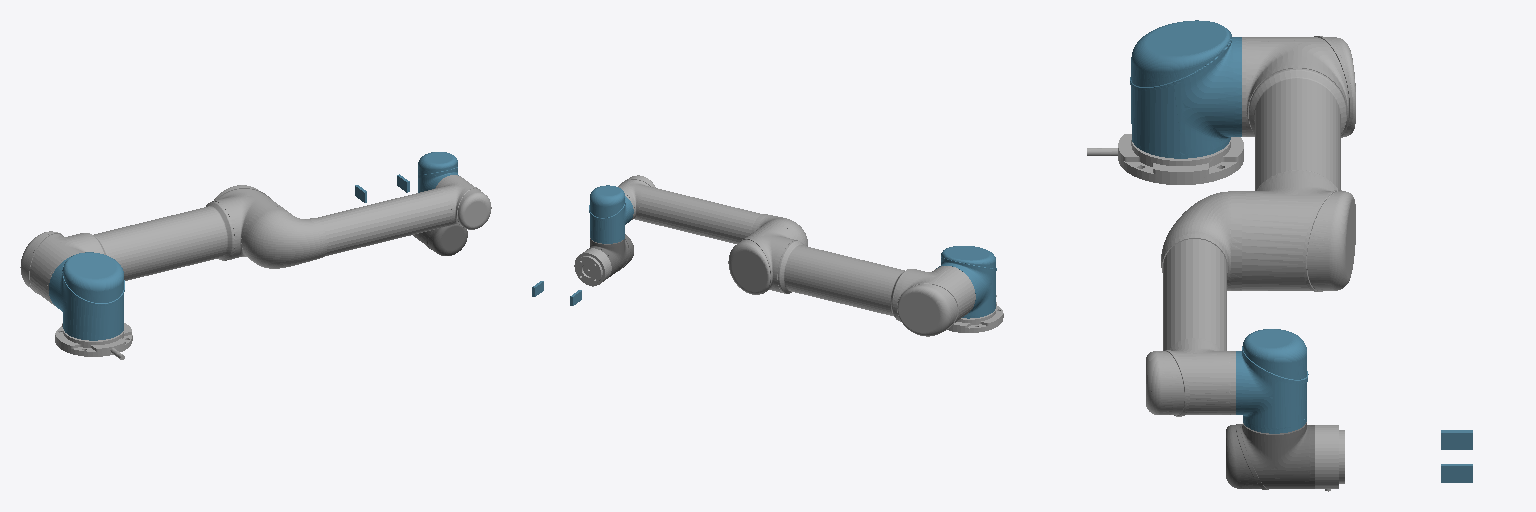
URDF robot description (ur5_robotiq_85):
<?xml version="1.0" ?>
<!-- =================================================================================== -->
<!-- |    This document was autogenerated by xacro from sisbot.xacro                   | -->
<!-- |    EDITING THIS FILE BY HAND IS NOT RECOMMENDED                                 | -->
<!-- =================================================================================== -->
<robot name="ur5_robotiq_85" xmlns:xacro="http://ros.org/wiki/xacro">
  <!--################################################
  ########              arm                    #######
  ####################################################-->

  <link name="base_link">
    <visual>
      <geometry>
        <mesh filename="../meshes/ur5/visual/base.obj"/>
      </geometry>
      <material name="LightGrey">
        <color rgba="0.7 0.7 0.7 1.0"/>
      </material>
    </visual>
    <collision>
      <geometry>
        <mesh filename="../meshes/ur5/collision/base.stl"/>
      </geometry>
    </collision>
    <inertial>
      <mass value="4.0"/>
      <origin rpy="0 0 0" xyz="0.0 0.0 0.0"/>
      <inertia ixx="0.00443333156" ixy="0.0" ixz="0.0" iyy="0.00443333156" iyz="0.0" izz="0.0072"/>
    </inertial>
  </link>

  <joint name="shoulder_pan_joint" type="revolute">
    <parent link="base_link"/>
    <child link="shoulder_link"/>
    <origin rpy="0.0 0.0 0.0" xyz="0.0 0.0 0.089159"/>
    <axis xyz="0 0 1"/>
    <limit effort="150.0" lower="-3.14159265359" upper="3.14159265359" velocity="3.15"/>
    <dynamics damping="0.0" friction="0.0"/>
  </joint>
  <link name="shoulder_link">
    <visual>
      <geometry>
        <mesh filename="../meshes/ur5/visual/shoulder.obj"/>
      </geometry>
      <material name="UR-Blue">
        <color rgba="0.376 0.576 0.674 1.0"/>
      </material>
    </visual>
    <collision>
      <geometry>
        <mesh filename="../meshes/ur5/collision/shoulder.stl"/>
      </geometry>
    </collision>
    <inertial>
      <mass value="3.7"/>
      <origin rpy="0 0 0" xyz="0.0 0.0 0.0"/>
      <inertia ixx="0.010267495893" ixy="0.0" ixz="0.0" iyy="0.010267495893" iyz="0.0" izz="0.00666"/>
    </inertial>
  </link>
  <joint name="shoulder_lift_joint" type="revolute">
    <parent link="shoulder_link"/>
    <child link="upper_arm_link"/>
    <origin rpy="0.0 1.57079632679 0.0" xyz="0.0 0.13585 0.0"/>
    <axis xyz="0 1 0"/>
    <limit effort="150.0" lower="-3.14159265359" upper="3.14159265359" velocity="3.15"/>
    <dynamics damping="0.0" friction="0.0"/>
  </joint>
  <link name="upper_arm_link">
    <visual>
      <geometry>
        <mesh filename="../meshes/ur5/visual/upperarm.obj"/>
      </geometry>
      <material name="LightGrey">
        <color rgba="0.7 0.7 0.7 1.0"/>
      </material>
    </visual>
    <collision>
      <geometry>
        <mesh filename="../meshes/ur5/collision/upperarm.stl"/>
      </geometry>
    </collision>
    <inertial>
      <mass value="8.393"/>
      <origin rpy="0 0 0" xyz="0.0 0.0 0.28"/>
      <inertia ixx="0.22689067591" ixy="0.0" ixz="0.0" iyy="0.22689067591" iyz="0.0" izz="0.0151074"/>
    </inertial>
  </link>
  <joint name="elbow_joint" type="revolute">
    <parent link="upper_arm_link"/>
    <child link="forearm_link"/>
    <origin rpy="0.0 0.0 0.0" xyz="0.0 -0.1197 0.425"/>
    <axis xyz="0 1 0"/>
    <limit effort="150.0" lower="-3.14159265359" upper="3.14159265359" velocity="3.15"/>
    <dynamics damping="0.0" friction="0.0"/>
  </joint>
  <link name="forearm_link">
    <visual>
      <geometry>
        <mesh filename="../meshes/ur5/visual/forearm.obj"/>
      </geometry>
      <material name="LightGrey">
        <color rgba="0.7 0.7 0.7 1.0"/>
      </material>
    </visual>
    <collision>
      <geometry>
        <mesh filename="../meshes/ur5/collision/forearm.stl"/>
      </geometry>
    </collision>
    <inertial>
      <mass value="2.275"/>
      <origin rpy="0 0 0" xyz="0.0 0.0 0.25"/>
      <inertia ixx="0.049443313556" ixy="0.0" ixz="0.0" iyy="0.049443313556" iyz="0.0" izz="0.004095"/>
    </inertial>
  </link>
  <joint name="wrist_1_joint" type="revolute">
    <parent link="forearm_link"/>
    <child link="wrist_1_link"/>
    <origin rpy="0.0 1.57079632679 0.0" xyz="0.0 0.0 0.39225"/>
    <axis xyz="0 1 0"/>
    <limit effort="28.0" lower="-3.14159265359" upper="3.14159265359" velocity="3.2"/>
    <dynamics damping="0.0" friction="0.0"/>
  </joint>
  <link name="wrist_1_link">
    <visual>
      <geometry>
        <mesh filename="../meshes/ur5/visual/wrist1.obj"/>
      </geometry>
      <material name="UR-Blue">
        <color rgba="0.376 0.576 0.674 1.0"/>
      </material>
    </visual>
    <collision>
      <geometry>
        <mesh filename="../meshes/ur5/collision/wrist1.stl"/>
      </geometry>
    </collision>
    <inertial>
      <mass value="1.219"/>
      <origin rpy="0 0 0" xyz="0.0 0.0 0.0"/>
      <inertia ixx="0.111172755531" ixy="0.0" ixz="0.0" iyy="0.111172755531" iyz="0.0" izz="0.21942"/>
    </inertial>
  </link>
  <joint name="wrist_2_joint" type="revolute">
    <parent link="wrist_1_link"/>
    <child link="wrist_2_link"/>
    <origin rpy="0.0 0.0 0.0" xyz="0.0 0.093 0.0"/>
    <axis xyz="0 0 1"/>
    <limit effort="28.0" lower="-3.14159265359" upper="3.14159265359" velocity="3.2"/>
    <dynamics damping="0.0" friction="0.0"/>
  </joint>
  <link name="wrist_2_link">
    <visual>
      <geometry>
        <mesh filename="../meshes/ur5/visual/wrist2.obj"/>
      </geometry>
      <material name="DarkGray">
        <color rgba="0.5 0.5 0.5 1.0"/>
      </material>
    </visual>
    <collision>
      <geometry>
        <mesh filename="../meshes/ur5/collision/wrist2.stl"/>
      </geometry>
    </collision>
    <inertial>
      <mass value="1.219"/>
      <origin rpy="0 0 0" xyz="0.0 0.0 0.0"/>
      <inertia ixx="0.111172755531" ixy="0.0" ixz="0.0" iyy="0.111172755531" iyz="0.0" izz="0.21942"/>
    </inertial>
  </link>
  <joint name="wrist_3_joint" type="revolute">
    <parent link="wrist_2_link"/>
    <child link="wrist_3_link"/>
    <origin rpy="0.0 0.0 0.0" xyz="0.0 0.0 0.09465"/>
    <axis xyz="0 1 0"/>
    <limit effort="28.0" lower="-3.14159265359" upper="3.14159265359" velocity="3.2"/>
    <dynamics damping="0.0" friction="0.0"/>
  </joint>
  <link name="wrist_3_link">
    <visual>
      <geometry>
        <mesh filename="../meshes/ur5/visual/wrist3.obj"/>
      </geometry>
      <material name="LightGrey">
        <color rgba="0.7 0.7 0.7 1.0"/>
      </material>
    </visual>
    <collision>
      <geometry>
        <mesh filename="../meshes/ur5/collision/wrist3.stl"/>
      </geometry>
    </collision>
    <inertial>
      <mass value="0.1879"/>
      <origin rpy="0 0 0" xyz="0.0 0.0 0.0"/>
      <inertia ixx="0.0171364731454" ixy="0.0" ixz="0.0" iyy="0.0171364731454" iyz="0.0" izz="0.033822"/>
    </inertial>
  </link>
  <joint name="ee_fixed_joint" type="fixed">
    <parent link="wrist_3_link"/>
    <child link="ee_link"/>
    <origin rpy="0.0 0.0 1.57079632679" xyz="0.0 0.0823 0.0"/>
  </joint>
  <link name="ee_link">
    <collision>
      <geometry>
        <box size="0.01 0.01 0.01"/>
      </geometry>
      <origin rpy="0 0 0" xyz="-0.01 0 0"/>
    </collision>
  </link>

  <!--################################################
  ########              gripper                  #####
  ####################################################-->

  <link name="robotiq_arg2f_base_link">
    <inertial>
      <origin rpy="0 0 0" xyz="8.625E-08 -4.6583E-06 0.03145"/>
      <mass value="0.22652"/>
      <inertia ixx="0.00020005" ixy="-4.2442E-10" ixz="-2.9069E-10" iyy="0.00017832" iyz="-3.4402E-08" izz="0.00013478"/>
    </inertial>
    <visual>
      <origin rpy="0 0 0" xyz="0 0 0"/>
      <geometry>
        <mesh filename="../meshes/robotiq_85/visual/robotiq_arg2f_85_base_link.dae" scale="0.001 0.001 0.001"/>
      </geometry>
      <material name="LightGrey">
        <color rgba="0.7 0.7 0.7 1.0"/>
      </material>
    </visual>
    <collision>
      <origin rpy="0 0 0" xyz="0 0 0"/>
      <geometry>
        <mesh filename="../meshes/robotiq_85/collision/robotiq_arg2f_base_link.stl"/>
      </geometry>
    </collision>
  </link>
  <joint name="finger_joint" type="revolute">
    <origin rpy="0 0 3.14159265359" xyz="0 -0.0306011 0.054904"/>
    <parent link="robotiq_arg2f_base_link"/>
    <child link="left_outer_knuckle"/>
    <axis xyz="1 0 0"/>
    <limit effort="1000" lower="0" upper="0.8" velocity="2.0"/>
  </joint>
  <link name="left_outer_knuckle">
    <inertial>
        <origin xyz="-0.000200000000003065 0.0199435877845359 0.0292245259211331" rpy="0 0 0" />
        <mass value="0.00853198276973456" />
        <inertia ixx="2.89328108496468E-06" ixy="-1.57935047237397E-19" ixz="-1.93980378593255E-19" iyy="1.86719750325683E-06" iyz="-1.21858577871576E-06" izz="1.21905238907251E-06" />
        </inertial>
    <visual>
      <origin rpy="0 0 0" xyz="0 0 0"/>
      <geometry>
        <mesh filename="../meshes/robotiq_85/visual/robotiq_arg2f_85_outer_knuckle.dae" scale="0.001 0.001 0.001"/>
      </geometry>
      <material name="">
        <color rgba="1 1 0 1"/>
      </material>
    </visual>
    <collision>
      <origin rpy="0 0 0" xyz="0 0 0"/>
      <geometry>
        <mesh filename="../meshes/robotiq_85/collision/robotiq_arg2f_85_outer_knuckle.dae" scale="0.001 0.001 0.001"/>
      </geometry>
    </collision>
  </link>
  <joint name="left_outer_finger_joint" type="fixed">
    <origin rpy="0 0 0" xyz="0 0.0315 -0.0041"/>
    <parent link="left_outer_knuckle"/>
    <child link="left_outer_finger"/>
    <axis xyz="1 0 0"/>
  </joint>
  <link name="left_outer_finger">
    <inertial>
        <origin xyz="0.00030115855001899 0.0373907951953854 -0.0208027427000385" rpy="0 0 0" />
        <mass value="0.022614240507152" />
        <inertia ixx="1.52518312458174E-05" ixy="9.76583423954399E-10" ixz="-5.43838577022588E-10" iyy="6.17694243867776E-06" iyz="6.78636130740228E-06" izz="1.16494917907219E-05" />
        </inertial>
    <visual>
      <origin rpy="0 0 0" xyz="0 0 0"/>
      <geometry>
        <mesh filename="../meshes/robotiq_85/visual/robotiq_arg2f_85_outer_finger.dae" scale="0.001 0.001 0.001"/>
      </geometry>
      <material name="LightGrey">
        <color rgba="0 1 1 1.0"/>
      </material>
    </visual>
    <collision>
      <origin rpy="0 0 0" xyz="0 0 0"/>
      <geometry>
        <mesh filename="../meshes/robotiq_85/collision/robotiq_arg2f_85_outer_finger.dae" scale="0.001 0.001 0.001"/>
      </geometry>
    </collision>
  </link>
  <joint name="left_inner_finger_joint" type="revolute">
    <origin rpy="0 0 0" xyz="0 0.0061 0.0471"/>
    <parent link="left_outer_finger"/>
    <child link="left_inner_finger"/>
    <axis xyz="1 0 0"/>
    <limit effort="1000" lower="-0.8757" upper="0" velocity="2.0"/>
    <mimic joint="finger_joint" multiplier="-1" offset="0"/>
  </joint>
  <link name="left_inner_finger">
    <inertial>
        <origin xyz="0.000299999999999317 0.0160078233491243 -0.0136945669206257" rpy="0 0 0" />
        <mass value="0.0104003125914103" />
        <inertia ixx="2.71909453810972E-06" ixy="1.35402465472579E-21" ixz="-7.1817349065269E-22" iyy="7.69100314106116E-07" iyz="6.74715432769696E-07" izz="2.30315190420171E-06" />
        </inertial>
    <visual>
      <origin rpy="0 0 0" xyz="0 0 0"/>
      <geometry>
        <mesh filename="../meshes/robotiq_85/visual/robotiq_arg2f_85_inner_finger.dae" scale="0.001 0.001 0.001"/>
      </geometry>
      <material name="LightGrey">
        <color rgba="1 0 1 1.0"/>
      </material>
    </visual>
    <collision>
      <origin rpy="0 0 0" xyz="0 0 0"/>
      <geometry>
        <mesh filename="../meshes/robotiq_85/collision/robotiq_arg2f_85_inner_finger.dae" scale="0.001 0.001 0.001"/>
      </geometry>
    </collision>
  </link>
  <joint name="left_inner_finger_pad_joint" type="fixed">
    <origin rpy="0 0 0" xyz="0 -0.0220203446692936 0.03242"/>
    <parent link="left_inner_finger"/>
    <child link="left_inner_finger_pad"/>
    <axis xyz="0 0 1"/>
  </joint>
  <link name="left_inner_finger_pad">
    <inertial>
      <mass value="1."/>
      <inertia ixx="1E-10" ixy="1E-10" ixz="1E-10" iyy="1E-10" iyz="1E-10" izz="1E-10"/>
    </inertial>
    <visual>
      <origin rpy="0 0 0" xyz="0 0 0"/>
      <geometry>
        <box size="0.022 0.00635 0.0375"/>
      </geometry>
      <material name="UR-Blue">
        <color rgba="0.376 0.576 0.674 1.0"/>
      </material>
    </visual>
    <collision>
      <origin rpy="0 0 0" xyz="0 0 0"/>
      <geometry>
        <box size="0.022 0.00635 0.0375"/>
      </geometry>
      <material name="">
        <color rgba="0.9 0.0 0.0 1"/>
      </material>
    </collision>
  </link>
  <joint name="left_inner_knuckle_joint" type="revolute">
    <!-- <origin xyz="0 ${reflect * -0.0127} 0.06142" rpy="${pi / 2 + .725} 0 ${(reflect - 1) * pi / 2}" /> -->
    <origin rpy="0 0 3.14159265359" xyz="0 -0.0127 0.06142"/>
    <parent link="robotiq_arg2f_base_link"/>
    <child link="left_inner_knuckle"/>
    <axis xyz="1 0 0"/>
    <limit effort="1000" lower="0" upper="0.8757" velocity="2.0"/>
    <mimic joint="finger_joint" multiplier="1" offset="0"/>
  </joint>
  <link name="left_inner_knuckle">
    <inertial>
        <origin xyz="0.000123011831763771 0.0507850843201817 0.00103968640075166" rpy="0 0 0" />
       <mass value="0.0271177346495152" />
        <inertia ixx="2.61910379223783E-05" ixy="-2.43616858946494E-07" ixz="-6.37789906117123E-09" iyy="2.8270243746167E-06" iyz="-5.37200748039765E-07" izz="2.83695868220296E-05" />
        </inertial>
    <visual>
      <origin rpy="0 0 0" xyz="0 0 0"/>
      <geometry>
        <mesh filename="../meshes/robotiq_85/visual/robotiq_arg2f_85_inner_knuckle.dae" scale="0.001 0.001 0.001"/>
      </geometry>
      <material name="LightGrey">
        <color rgba="0 0 1 1.0"/>
      </material>
    </visual>
    <collision>
      <origin rpy="0 0 0" xyz="0 0 0"/>
      <geometry>
        <mesh filename="../meshes/robotiq_85/collision/robotiq_arg2f_85_inner_knuckle.dae" scale="0.001 0.001 0.001"/>
      </geometry>
    </collision>
  </link>
  <joint name="right_outer_knuckle_joint" type="revolute">
    <origin rpy="0 0 0" xyz="0 0.0306011 0.054904"/>
    <parent link="robotiq_arg2f_base_link"/>
    <child link="right_outer_knuckle"/>
    <axis xyz="1 0 0"/>
    <limit effort="1000" lower="0" upper="0.81" velocity="2.0"/>
    <mimic joint="finger_joint" multiplier="1" offset="0"/>
  </joint>
  <link name="right_outer_knuckle">
    <inertial>
        <origin xyz="-0.000200000000003065 0.0199435877845359 0.0292245259211331" rpy="0 0 0" />
        <mass value="0.00853198276973456" />
        <inertia ixx="2.89328108496468E-06" ixy="-1.57935047237397E-19" ixz="-1.93980378593255E-19" iyy="1.86719750325683E-06" iyz="-1.21858577871576E-06" izz="1.21905238907251E-06" />
        </inertial>
    <visual>
      <origin rpy="0 0 0" xyz="0 0 0"/>
      <geometry>
        <mesh filename="../meshes/robotiq_85/visual/robotiq_arg2f_85_outer_knuckle.dae" scale="0.001 0.001 0.001"/>
      </geometry>
      <material name="">
        <color rgba="0.792156862745098 0.819607843137255 0.933333333333333 1"/>
      </material>
    </visual>
    <collision>
      <origin rpy="0 0 0" xyz="0 0 0"/>
      <geometry>
        <mesh filename="../meshes/robotiq_85/collision/robotiq_arg2f_85_outer_knuckle.dae" scale="0.001 0.001 0.001"/>
      </geometry>
    </collision>
  </link>
  <joint name="right_outer_finger_joint" type="fixed">
    <origin rpy="0 0 0" xyz="0 0.0315 -0.0041"/>
    <parent link="right_outer_knuckle"/>
    <child link="right_outer_finger"/>
    <axis xyz="1 0 0"/>
  </joint>
  <link name="right_outer_finger">
    <inertial>
        <origin xyz="0.00030115855001899 0.0373907951953854 -0.0208027427000385" rpy="0 0 0" />
        <mass value="0.022614240507152" />
        <inertia ixx="1.52518312458174E-05" ixy="9.76583423954399E-10" ixz="-5.43838577022588E-10" iyy="6.17694243867776E-06" iyz="6.78636130740228E-06" izz="1.16494917907219E-05" />
        </inertial>
    <visual>
      <origin rpy="0 0 0" xyz="0 0 0"/>
      <geometry>
        <mesh filename="../meshes/robotiq_85/visual/robotiq_arg2f_85_outer_finger.dae" scale="0.001 0.001 0.001"/>
      </geometry>
      <material name="LightGrey">
        <color rgba="0.7 0.7 0.7 1.0"/>
      </material>
    </visual>
    <collision>
      <origin rpy="0 0 0" xyz="0 0 0"/>
      <geometry>
        <mesh filename="../meshes/robotiq_85/collision/robotiq_arg2f_85_outer_finger.dae" scale="0.001 0.001 0.001"/>
      </geometry>
    </collision>
  </link>
  <joint name="right_inner_finger_joint" type="revolute">
    <origin rpy="0 0 0" xyz="0 0.0061 0.0471"/>
    <parent link="right_outer_finger"/>
    <child link="right_inner_finger"/>
    <axis xyz="1 0 0"/>
    <limit effort="1000" lower="-0.8757" upper="0" velocity="2.0"/>
    <mimic joint="finger_joint" multiplier="-1" offset="0"/>
  </joint>
  <link name="right_inner_finger">
    <inertial>
        <origin xyz="0.000299999999999317 0.0160078233491243 -0.0136945669206257" rpy="0 0 0" />
        <mass value="0.0104003125914103" />
        <inertia ixx="2.71909453810972E-06" ixy="1.35402465472579E-21" ixz="-7.1817349065269E-22" iyy="7.69100314106116E-07" iyz="6.74715432769696E-07" izz="2.30315190420171E-06" />
        </inertial>
    <visual>
      <origin rpy="0 0 0" xyz="0 0 0"/>
      <geometry>
        <mesh filename="../meshes/robotiq_85/visual/robotiq_arg2f_85_inner_finger.dae" scale="0.001 0.001 0.001"/>
      </geometry>
      <material name="">
        <color rgba="0.1 0.1 0.1 1"/>
      </material>
    </visual>
    <collision>
      <origin rpy="0 0 0" xyz="0 0 0"/>
      <geometry>
        <mesh filename="../meshes/robotiq_85/collision/robotiq_arg2f_85_inner_finger.dae" scale="0.001 0.001 0.001"/>
      </geometry>
    </collision>
  </link>
  <joint name="right_inner_finger_pad_joint" type="fixed">
    <origin rpy="0 0 0" xyz="0 -0.0220203446692936 0.03242"/>
    <parent link="right_inner_finger"/>
    <child link="right_inner_finger_pad"/>
    <axis xyz="0 0 1"/>
  </joint>
  <link name="right_inner_finger_pad">
    <inertial>
      <mass value="1"/>
      <inertia ixx="1E-10" ixy="1E-10" ixz="1E-10" iyy="1E-10" iyz="1E-10" izz="1E-10"/>
    </inertial>
    <visual>
      <origin rpy="0 0 0" xyz="0 0 0"/>
      <geometry>
        <box size="0.022 0.00635 0.0375"/>
      </geometry>
      <material name="UR-Blue">
        <color rgba="0.376 0.576 0.674 1.0"/>
      </material>
    </visual>
    <collision>
      <origin rpy="0 0 0" xyz="0 0 0"/>
      <geometry>
        <box size="0.022 0.00635 0.0375"/>
      </geometry>
      <material name="LightGrey">
        <color rgba="0.7 0.7 0.7 1.0"/>
      </material>
    </collision>
  </link>
  <joint name="right_inner_knuckle_joint" type="revolute">
    <!-- <origin xyz="0 ${reflect * -0.0127} 0.06142" rpy="${pi / 2 + .725} 0 ${(reflect - 1) * pi / 2}" /> -->
    <origin rpy="0 0 0.0" xyz="0 0.0127 0.06142"/>
    <parent link="robotiq_arg2f_base_link"/>
    <child link="right_inner_knuckle"/>
    <axis xyz="1 0 0"/>
    <limit effort="1000" lower="0" upper="0.8757" velocity="2.0"/>
    <mimic joint="finger_joint" multiplier="1" offset="0"/>
  </joint>
  <link name="right_inner_knuckle">
    <inertial>
        <origin xyz="0.000123011831763771 0.0507850843201817 0.00103968640075166" rpy="0 0 0" />
       <mass value="0.0271177346495152" />
        <inertia ixx="2.61910379223783E-05" ixy="-2.43616858946494E-07" ixz="-6.37789906117123E-09" iyy="2.8270243746167E-06" iyz="-5.37200748039765E-07" izz="2.83695868220296E-05" />
        </inertial>
    <visual>
      <origin rpy="0 0 0" xyz="0 0 0"/>
      <geometry>
        <mesh filename="../meshes/robotiq_85/visual/robotiq_arg2f_85_inner_knuckle.dae" scale="0.001 0.001 0.001"/>
      </geometry>
      <material name="LightGrey">
        <color rgba="0.7 0.7 0.7 1.0"/>
      </material>
    </visual>
    <collision>
      <origin rpy="0 0 0" xyz="0 0 0"/>
      <geometry>
        <mesh filename="../meshes/robotiq_85/collision/robotiq_arg2f_85_inner_knuckle.dae" scale="0.001 0.001 0.001"/>
      </geometry>
    </collision>
  </link>

<!--################################################
  ########          connect model                #####
  ####################################################-->

  <link name="world"/>
  <!-- connect gripper to arm -->
  <joint name="robotiq_85_base_joint" type="fixed">
    <parent link="ee_link"/>
    <child link="robotiq_arg2f_base_link"/>
    <origin rpy="0 1.57079632679 0" xyz="0 0 0"/>
  </joint>

<!--  <joint name="arm_gripper_joint" type="fixed">-->
<!--    <parent link="ee_link"/>-->
<!--    <child link="robotiq_140_robotiq_arg2f_base_link"/>-->
<!--    <origin rpy="-1.57 1.57 -1.57" xyz="0.0 0.0 0.0"/>-->
<!--  </joint>-->

  <!-- connect arm to world -->
  <joint name="world_arm_joint" type="fixed">
    <parent link="world"/>
    <child link="base_link"/>
    <origin rpy="0.0 0.0 0" xyz="0 0 0.78"/>
  </joint>


</robot>

--- Facts derived from the render (not from the file) ---
Views: 3 orthographic renders of the robot side by side, from view 1: azimuth 30°, elevation 25°; view 2: azimuth 150°, elevation 25°; view 3: azimuth 270°, elevation 25°.
Model ur5_robotiq_85 with 20 links and 19 joints (12 revolute, 7 fixed), rooted at world, posed every joint at zero.
Visible links, largest first — view 1: upper_arm_link, forearm_link, shoulder_link, base_link, wrist_1_link, wrist_2_link; view 2: upper_arm_link, forearm_link, shoulder_link, wrist_1_link, wrist_3_link, wrist_2_link, base_link; view 3: upper_arm_link, forearm_link, shoulder_link, wrist_1_link, wrist_2_link, base_link, wrist_3_link, left_inner_finger_pad, right_inner_finger_pad.
Boxes of the visible links, x1,y1,x2,y2 form: upper_arm_link: [20, 185, 283, 305]; forearm_link: [243, 175, 491, 268]; shoulder_link: [49, 252, 124, 340]; base_link: [55, 323, 132, 359]; wrist_1_link: [418, 152, 458, 192]; wrist_2_link: [413, 224, 467, 255]; upper_arm_link: [728, 223, 975, 336]; forearm_link: [618, 175, 807, 246]; shoulder_link: [936, 246, 996, 318]; wrist_1_link: [589, 185, 633, 243]; wrist_3_link: [574, 248, 611, 286]; wrist_2_link: [587, 234, 633, 276]; base_link: [947, 295, 1003, 332]; upper_arm_link: [1242, 36, 1355, 291]; forearm_link: [1146, 191, 1241, 416]; shoulder_link: [1130, 20, 1241, 158]; wrist_1_link: [1236, 329, 1308, 433]; wrist_2_link: [1226, 422, 1314, 489]; base_link: [1087, 134, 1243, 184]; wrist_3_link: [1315, 425, 1344, 491]; left_inner_finger_pad: [1441, 430, 1472, 449]; right_inner_finger_pad: [1441, 464, 1472, 482].
Size in the robot's own frame: 0.94 by 0.4505 by 0.2062 metres.
7 mesh visuals loaded from 12 distinct referenced files (7 OBJ); not drawn: 9 (reference not matched to a file when rendering).